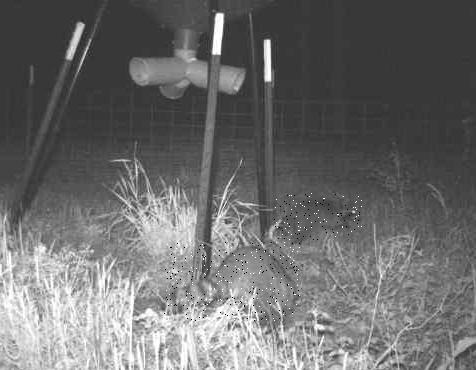Raccoon: (163, 242, 300, 321), (273, 194, 361, 241)
